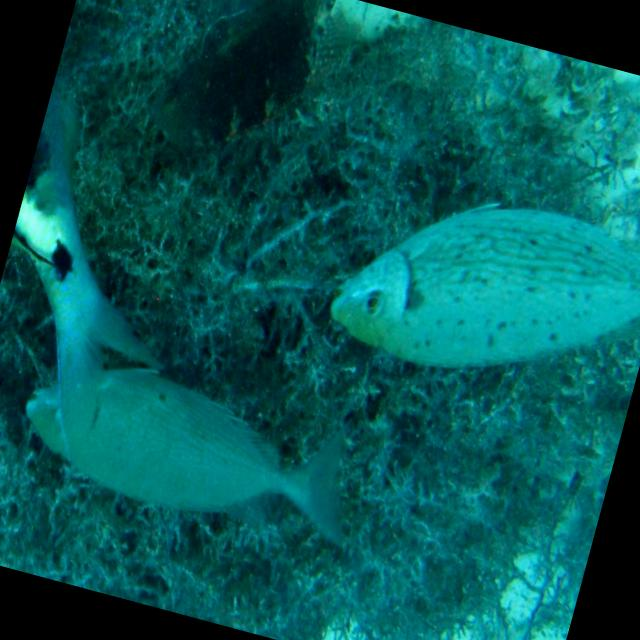Sokar Baligi: (307, 143, 640, 444), (0, 322, 385, 570)
